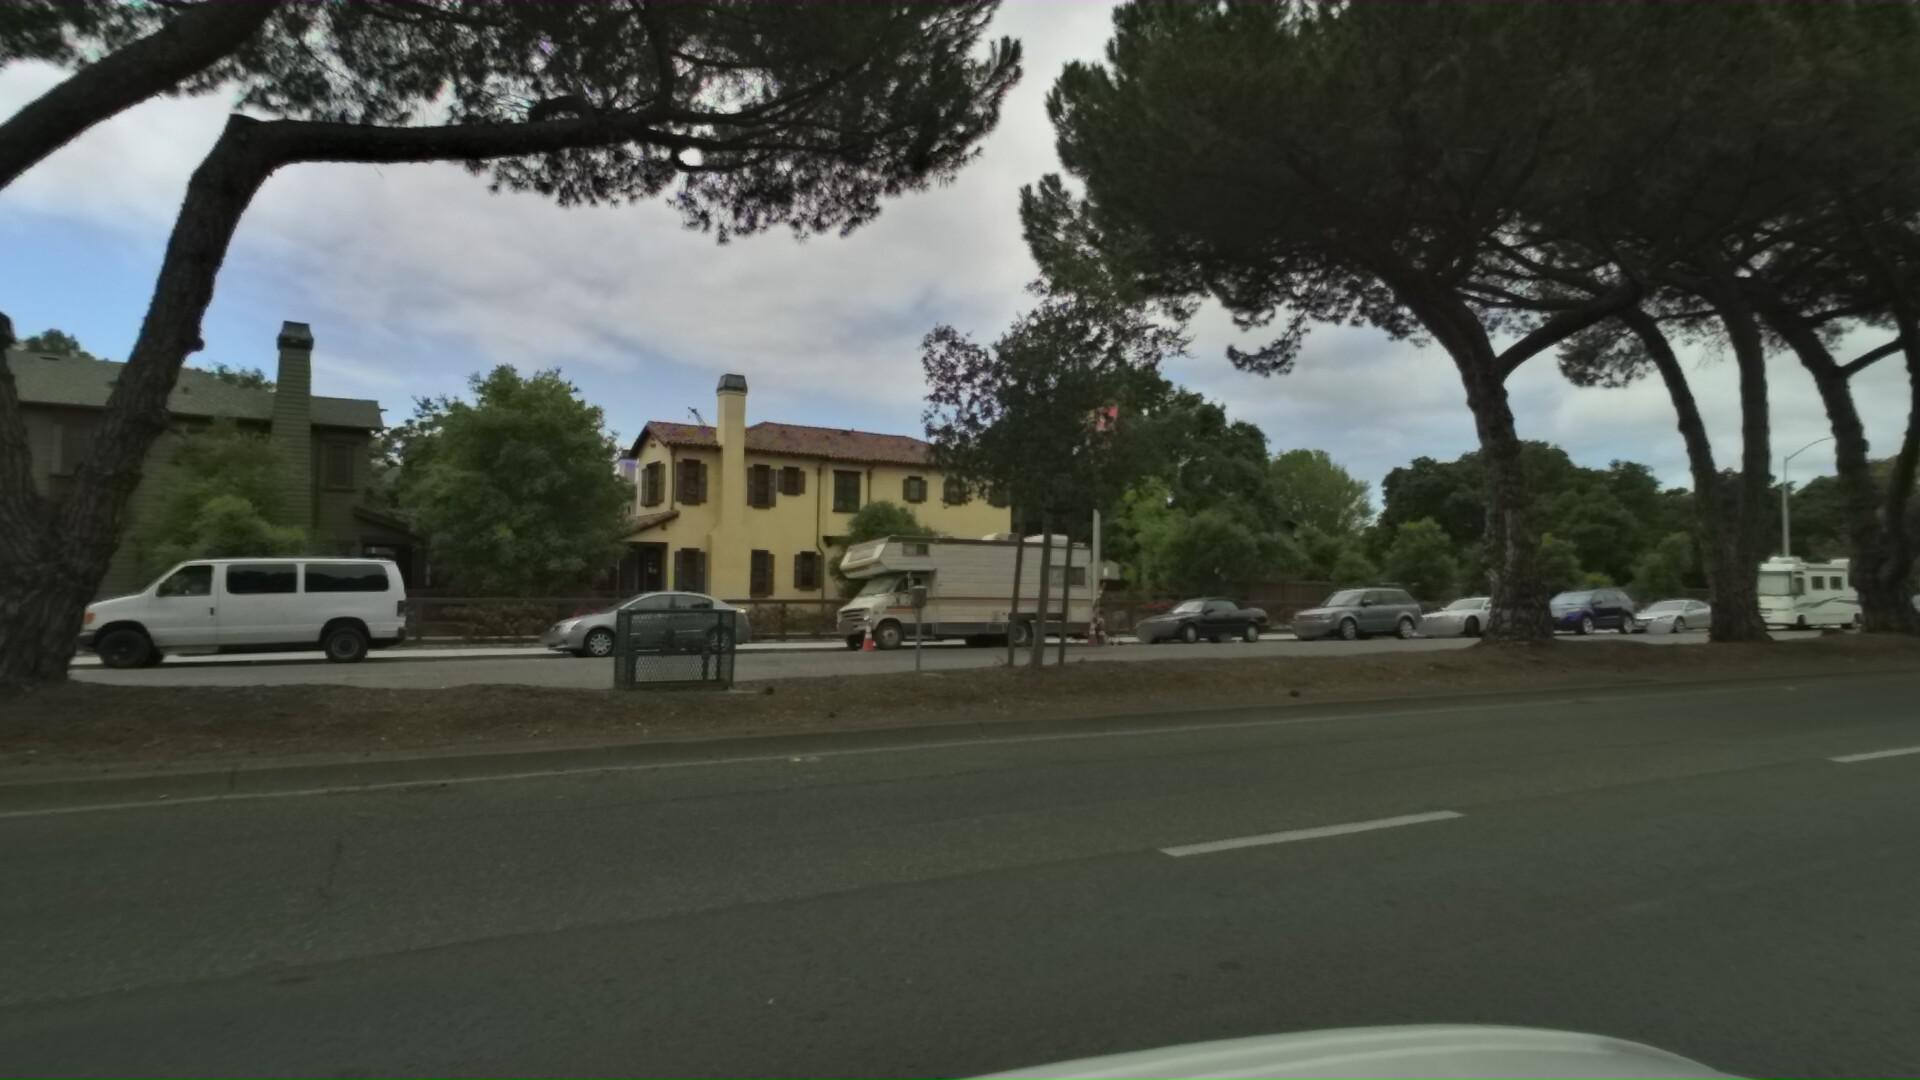car: (15, 541, 389, 674), (505, 578, 745, 657), (1261, 578, 1418, 636), (1108, 587, 1263, 642), (1506, 578, 1638, 632), (1389, 585, 1534, 634), (1600, 585, 1722, 628), (1859, 578, 1920, 618)
other_vehicle: (796, 512, 1127, 647), (1696, 533, 1888, 628), (1895, 556, 1920, 618)
